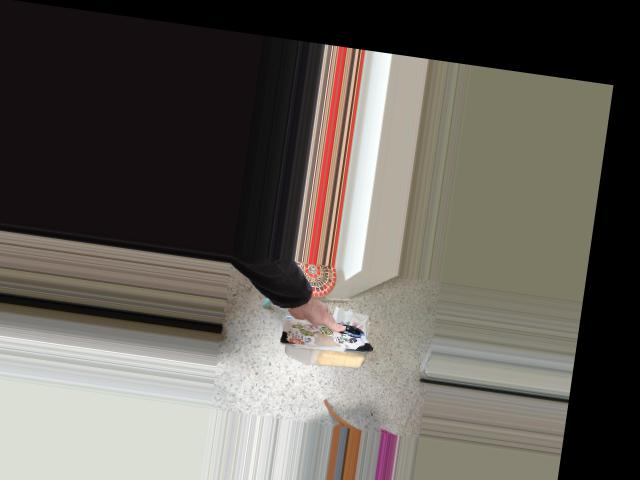cheese: (263, 291, 382, 396)
